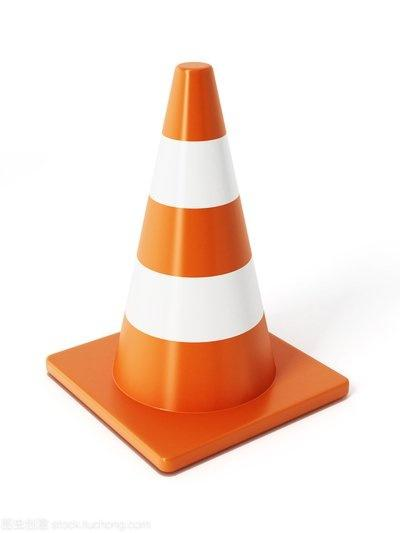cone_barrel: (105, 67, 291, 412)
